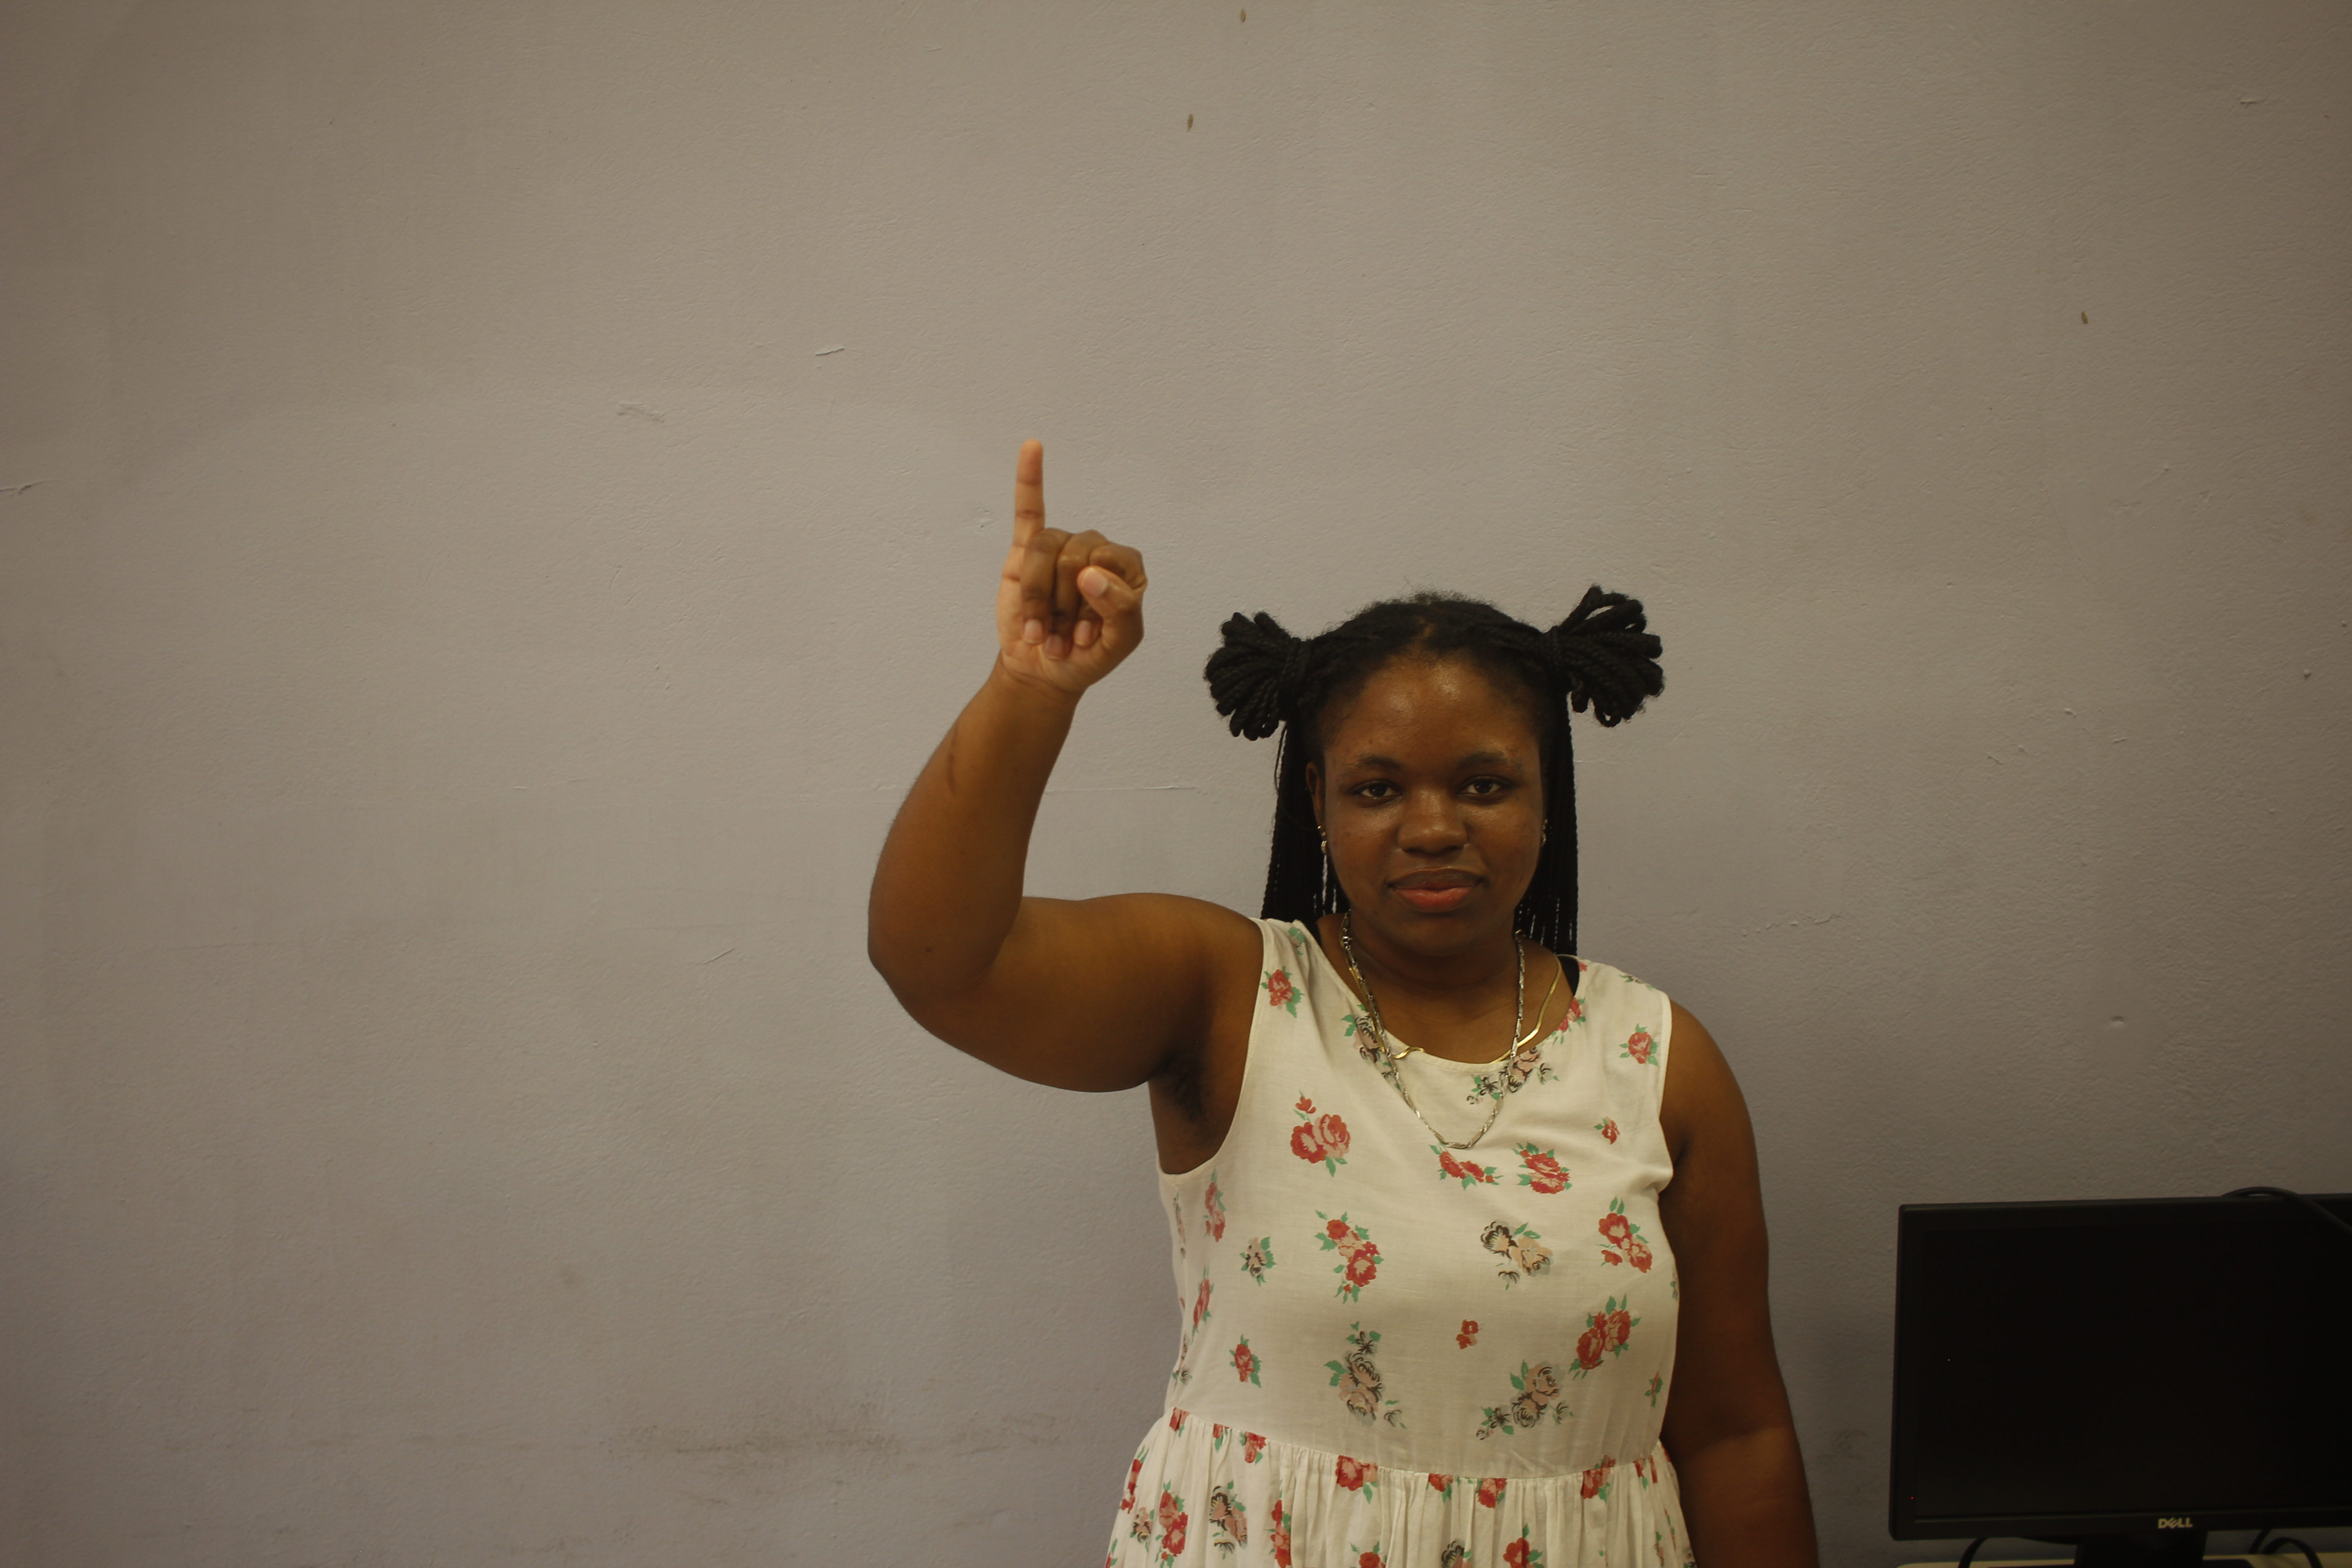J: (985, 422, 1153, 693)
